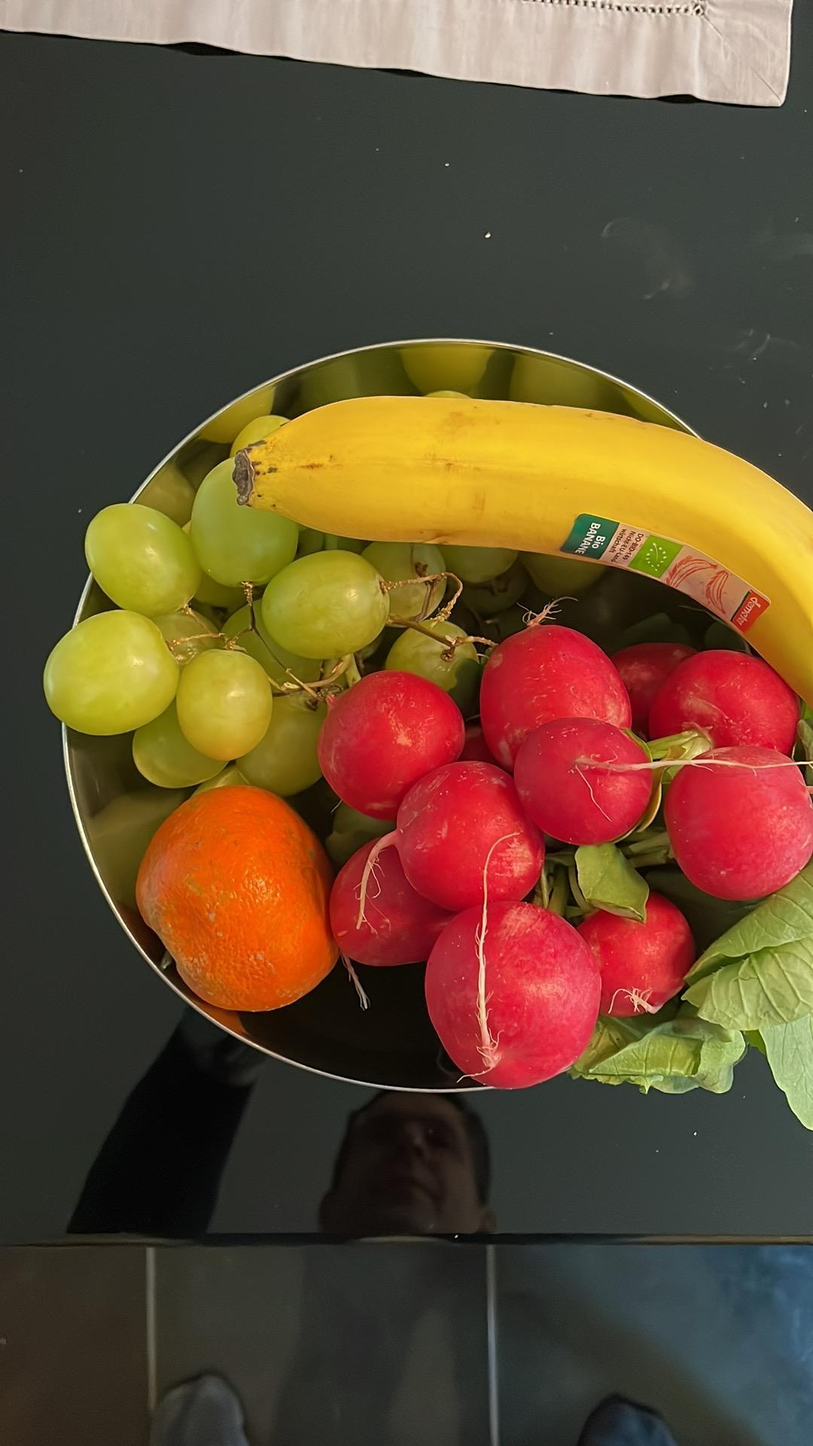banana: (226, 380, 813, 715)
grape: (38, 598, 180, 738), (82, 496, 210, 627), (181, 438, 298, 580), (256, 545, 394, 651), (227, 686, 332, 799), (119, 682, 234, 785), (180, 645, 266, 764), (349, 529, 455, 617), (219, 593, 325, 672), (399, 616, 478, 689), (437, 532, 522, 587), (529, 550, 604, 601), (230, 405, 295, 456)
mandarin: (131, 779, 344, 1008)
radish: (428, 894, 603, 1089), (478, 609, 646, 785), (400, 748, 556, 921), (659, 734, 813, 900), (647, 638, 811, 791), (317, 667, 467, 825), (337, 813, 461, 977), (499, 718, 653, 850), (562, 863, 693, 1013), (604, 631, 699, 740)
